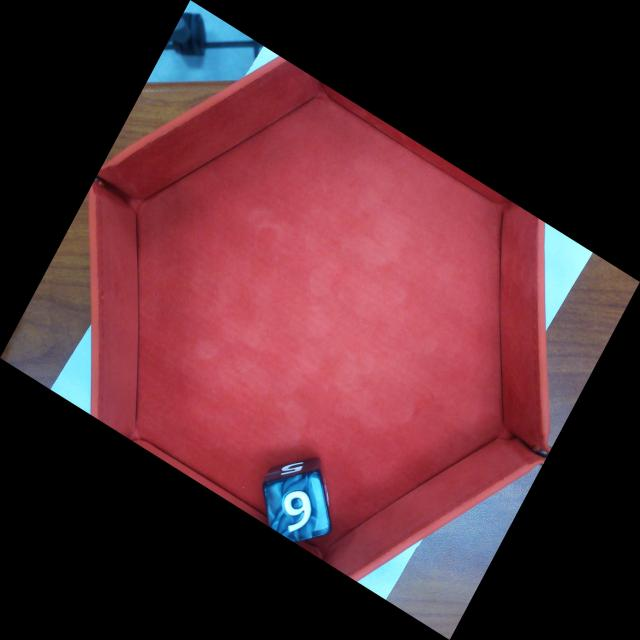dice: (261, 467, 333, 549)
